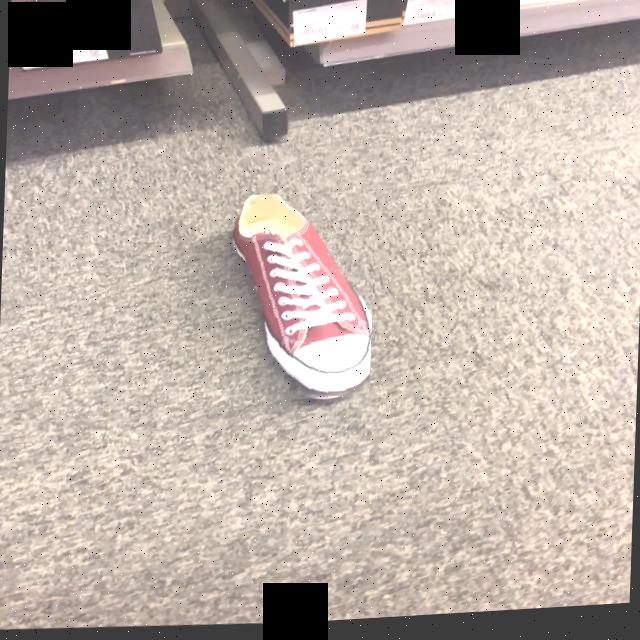shoe: (231, 198, 371, 402)
